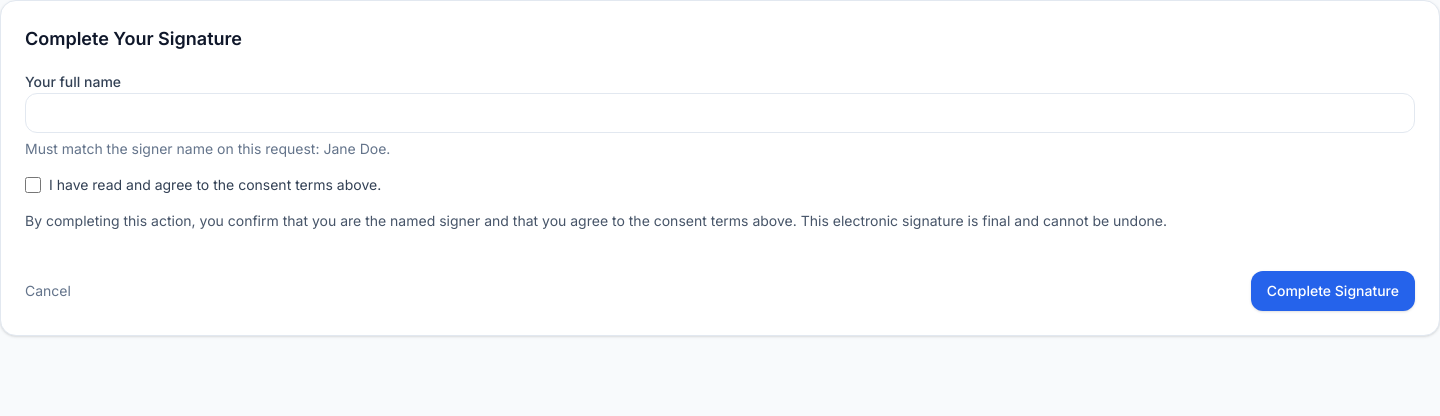
Test: SignatureExecutionForm — server error handling › 10. the typed name and consent checkbox state remain after a server error
Type "Jane Doe" into the field labelled "Your full name" at (720, 113), box [25, 93, 1415, 133]
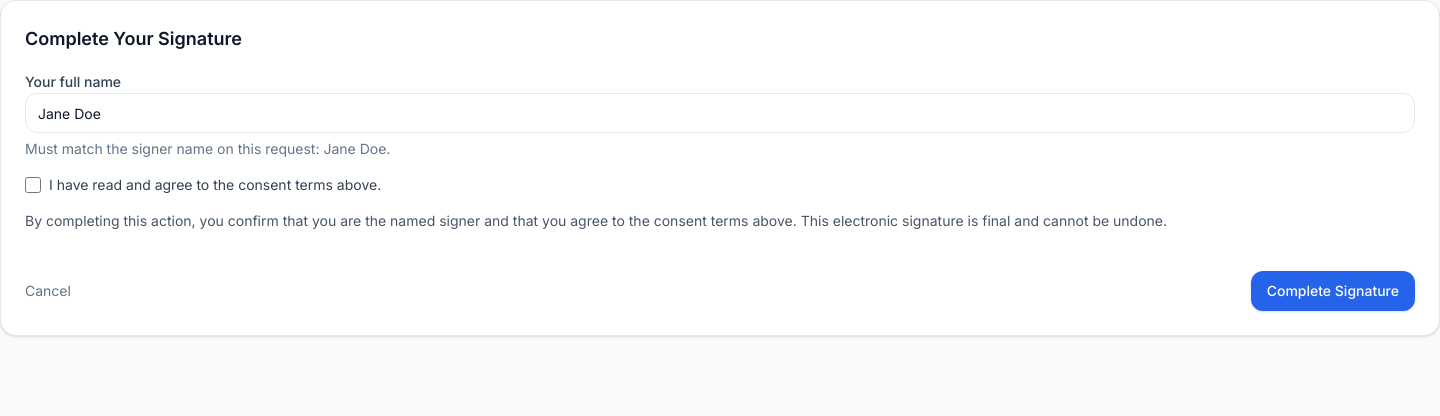
Click the checkbox labelled "I have read and agree to the consent terms above." at (33, 185), box [25, 177, 41, 193]
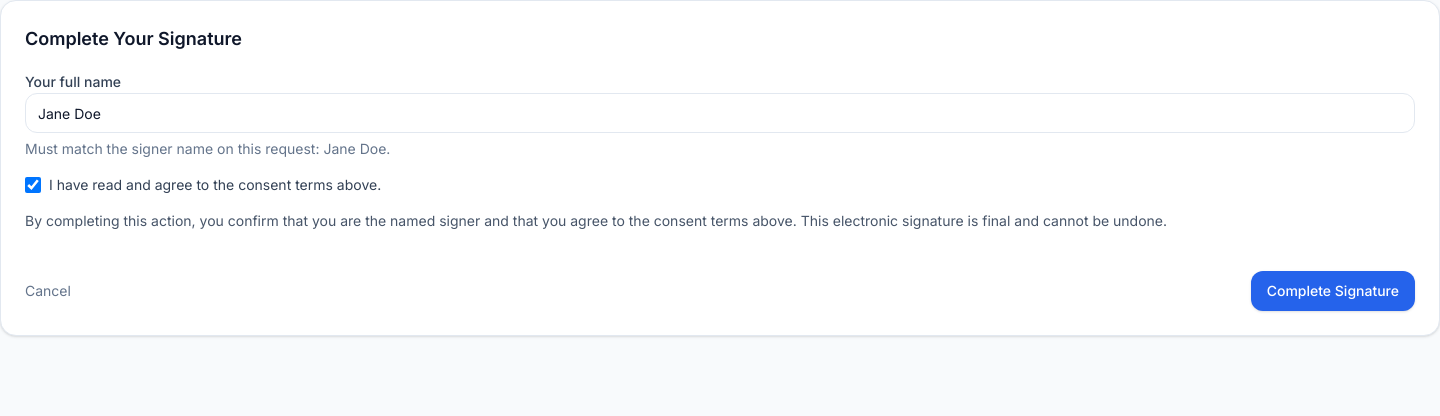
Click the button "Complete Signature" at (1333, 291), box [1251, 271, 1415, 311]
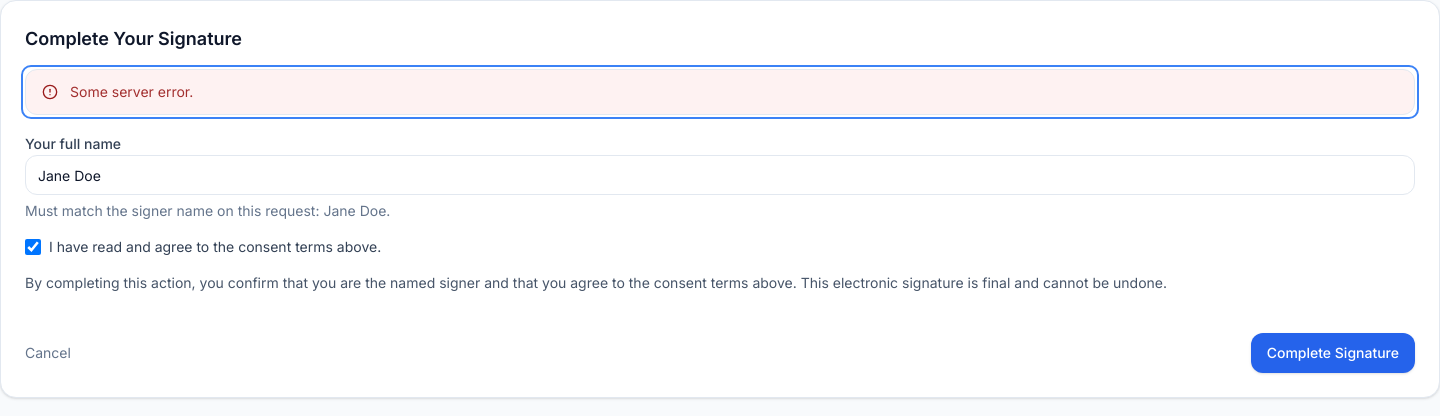
Expected: the checkbox labelled "I have read and agree to the consent terms above." is checked, [25, 239, 41, 255]
Expected: the message "Some server error." is shown, [25, 69, 1415, 115]
